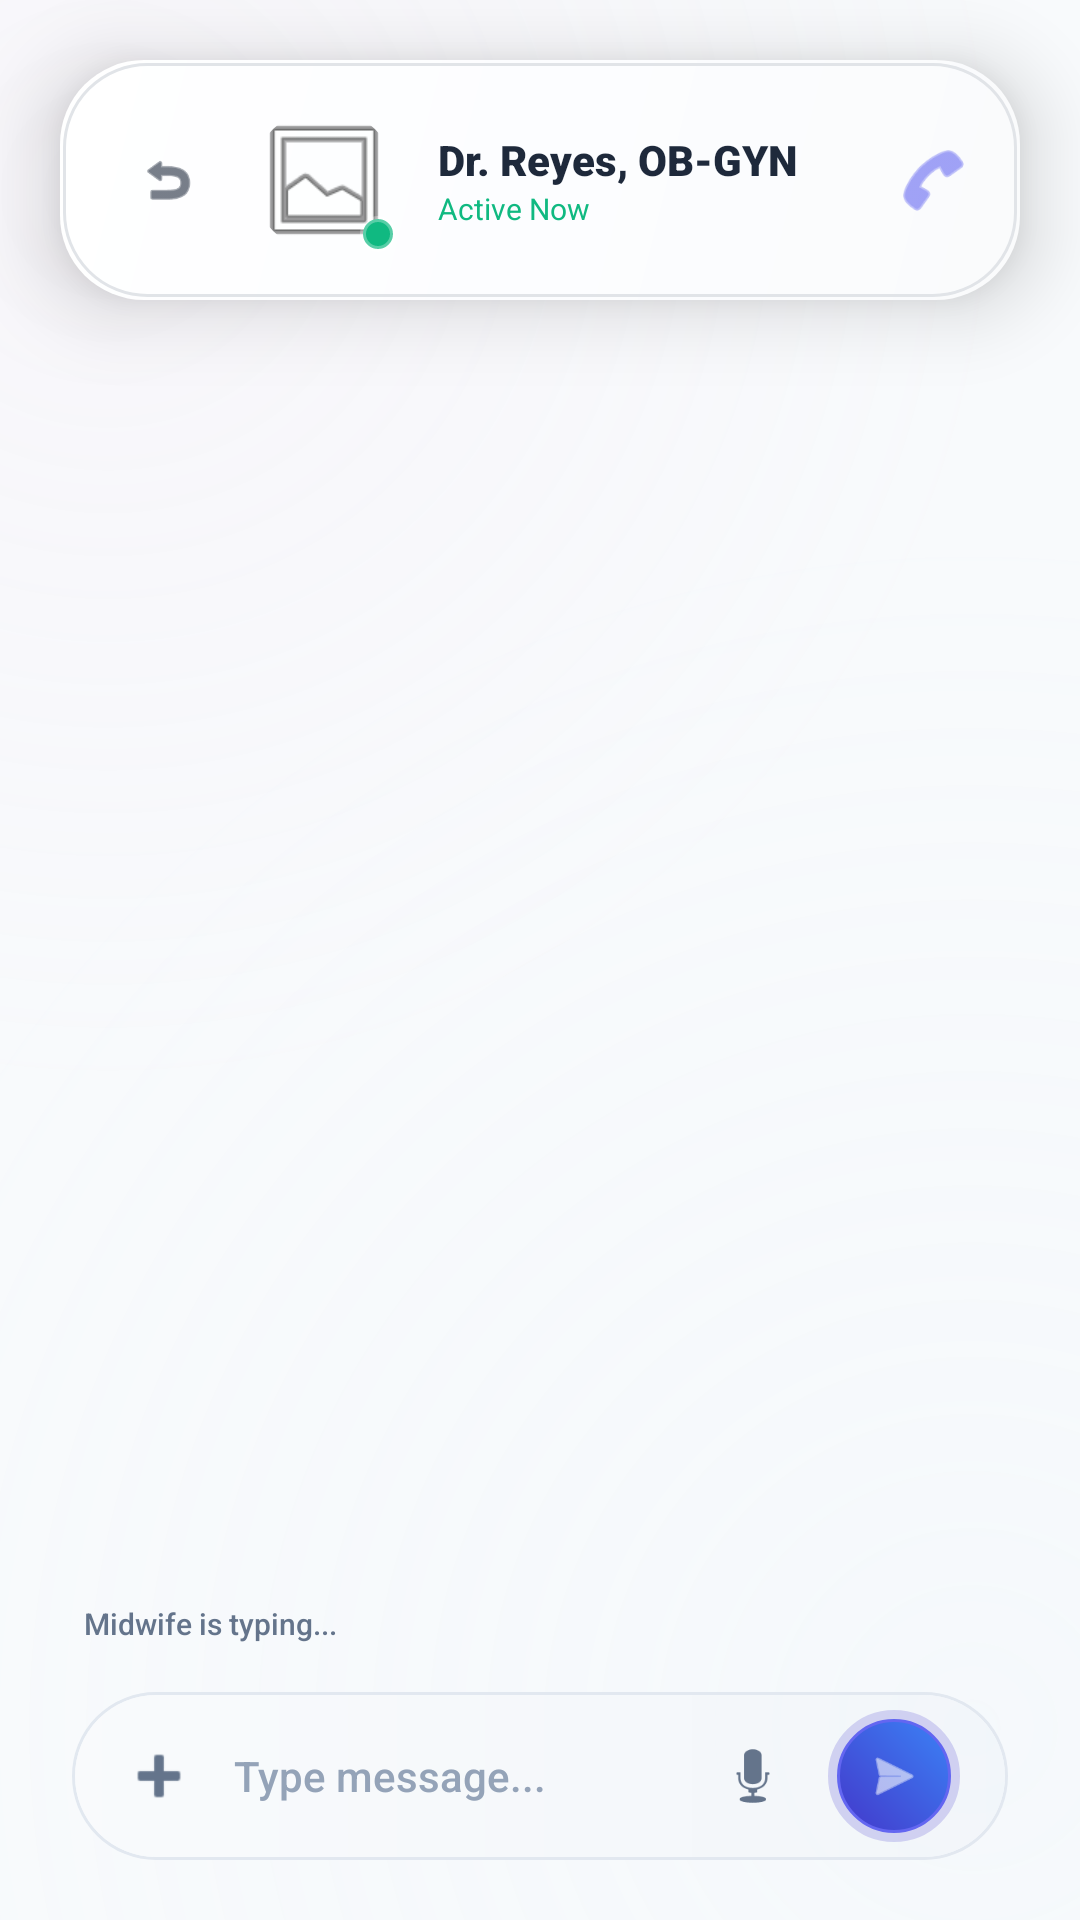

Screen size 1080 x 1920. Icon name, then its box in pixels as box=[x1, y1, x2, y2]:
add: box=[137, 1754, 181, 1798]
call: box=[903, 150, 964, 211]
gallery: box=[270, 126, 393, 249]
revert: box=[147, 161, 190, 200]
send: box=[875, 1757, 914, 1795]
speak now: box=[736, 1749, 770, 1803]
